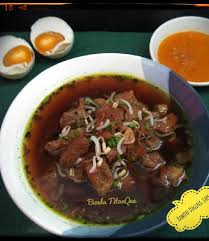Rawon: (19, 65, 200, 227)
